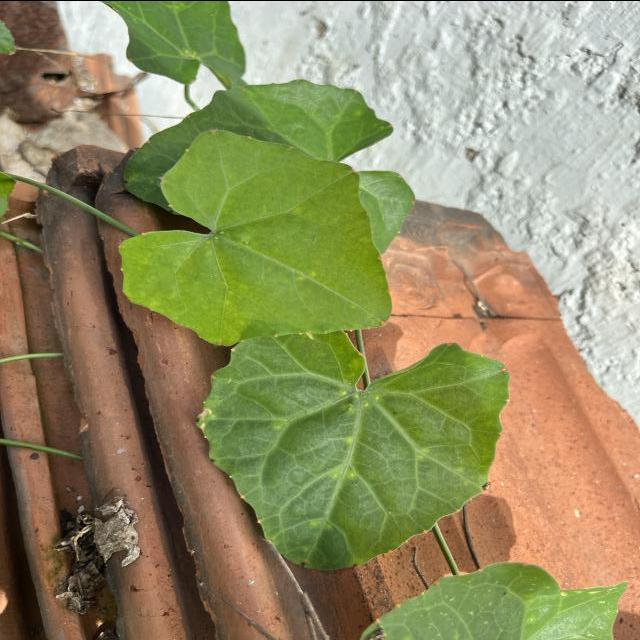Coccinia grandis: (192, 328, 512, 570), (115, 128, 394, 347)
